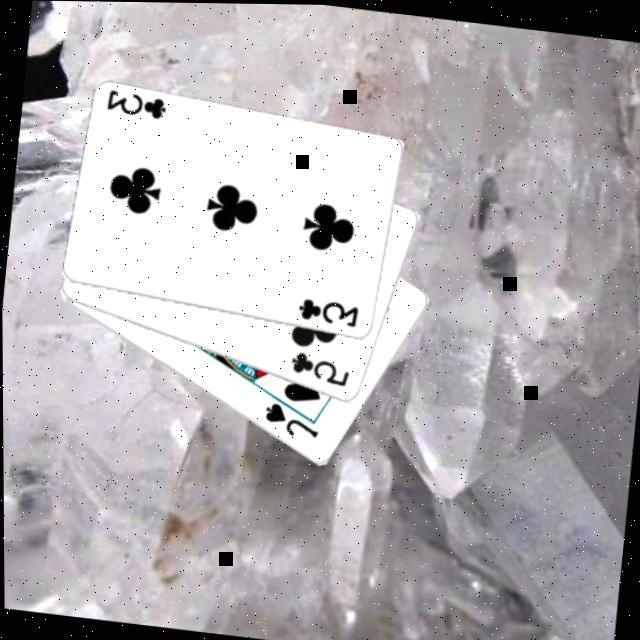3C: (101, 83, 169, 121), (293, 291, 361, 328)
5C: (284, 345, 351, 388)
JS: (257, 395, 323, 439)
